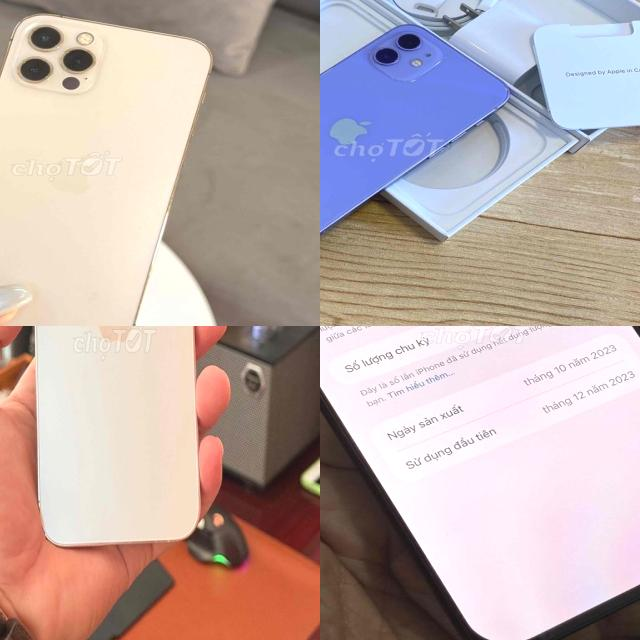gen_12_13: (0, 7, 224, 326), (320, 21, 516, 267), (25, 326, 211, 553)
gen_15: (320, 326, 640, 640)
